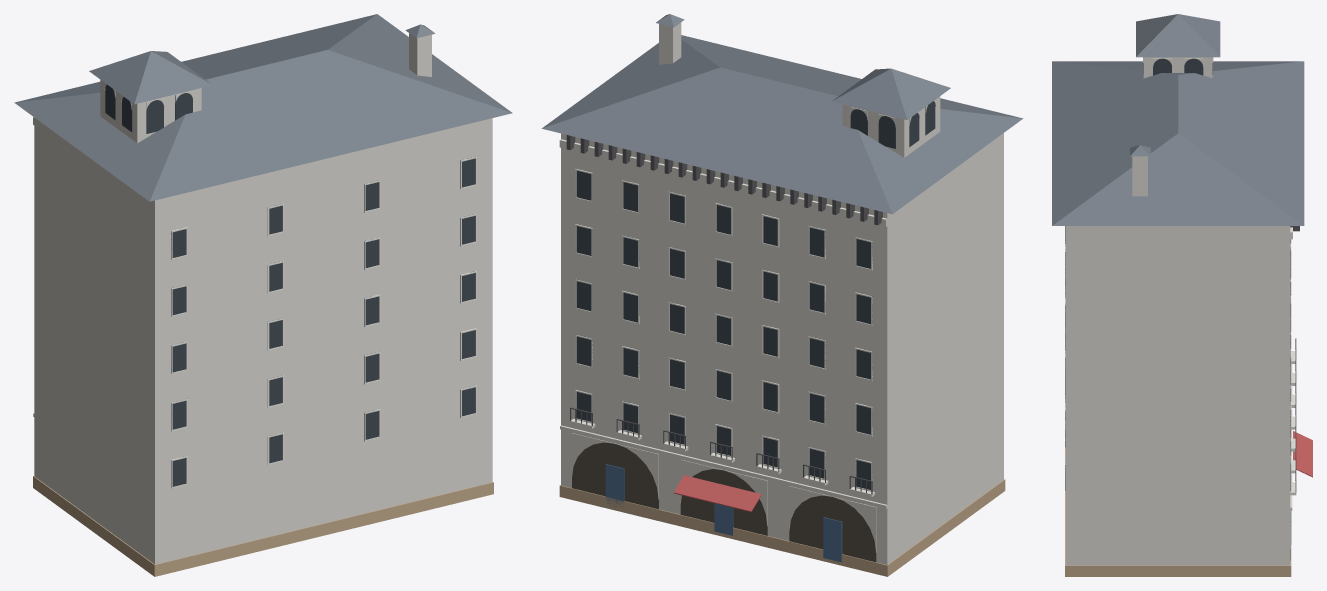
The model's file is ca_classical6_shops.glb.
3 renders of one model, left to right at view 1: azimuth 30°, elevation 25°; view 2: azimuth 150°, elevation 25°; view 3: azimuth 270°, elevation 25°, orthographic. The views are drawn at different scales.
Visible parts, largest first — view 1: ca_classical6_shops; view 2: ca_classical6_shops; view 3: ca_classical6_shops.
Boxes of the visible parts, x1,y1,x2,y2 form: ca_classical6_shops: (14, 14, 512, 576); ca_classical6_shops: (542, 14, 1023, 576); ca_classical6_shops: (1052, 14, 1312, 576).
Size of the model in its own units: 22.6 by 27.8 by 15.1.
